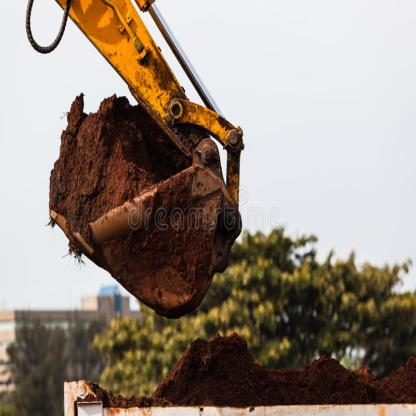excavator: (14, 1, 246, 329)
